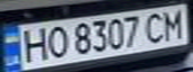0: (106, 16, 127, 51)
3: (90, 18, 112, 53)
7: (121, 12, 145, 47)
8: (72, 19, 93, 55)
C: (139, 9, 169, 43)
H: (15, 25, 51, 63)
M: (160, 7, 190, 40)
O: (42, 22, 72, 60)
